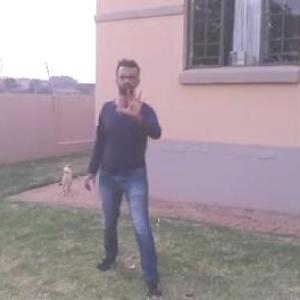follow_hand: (115, 84, 150, 119)
